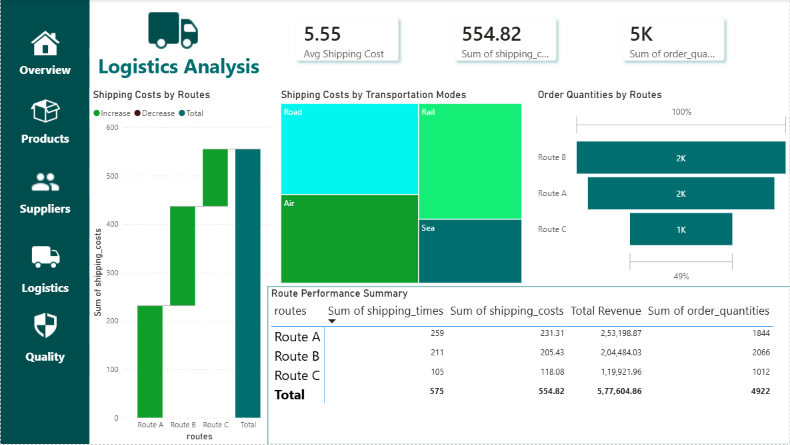

The page's visual inventory and layout, read from the dashboard file:
{"tool":"powerbi","page":{"name":"Page 4","canvas":[1280,720],"ordinal":3},"visuals":[{"type":"shape","box":[0,0,144,720],"z":0},{"type":"textbox","box":[0,96,144,48],"z":1000},{"type":"textbox","box":[0,208,144,64],"z":2000},{"type":"textbox","box":[0,320,144,64],"z":3000},{"type":"textbox","box":[0,448,144,64],"z":4000},{"type":"textbox","box":[0,560,144,48],"z":5000},{"type":"image","box":[32,48,80,48],"z":6000},{"type":"image","box":[48,128,48,96],"z":7000},{"type":"image","box":[48,240,48,112],"z":8000},{"type":"image","box":[48,384,48,64],"z":9000},{"type":"image","box":[48,496,48,64],"z":10000},{"type":"textbox","box":[144,80,288,96],"z":11000},{"type":"image","box":[208,0,144,80],"z":12000},{"type":"treemap","title":"Shipping Costs by Transportation Modes","fields":{"Group":["public supply_chain.transportation_modes"],"Values":["Sum(public supply_chain.shipping_costs)"]},"box":[448,144,400,320],"z":13000},{"type":"waterfallChart","title":"Shipping Costs by Routes","fields":{"Category":["public supply_chain.routes"],"Y":["Sum(public supply_chain.shipping_costs)"]},"box":[144,144,304,576],"z":14000},{"type":"pivotTable","title":"Route Performance Summary","fields":{"Rows":["public supply_chain.routes"],"Values":["Sum(public supply_chain.shipping_times)","Sum(public supply_chain.shipping_costs)","public supply_chain.Total Revenue","Sum(public supply_chain.order_quantities)"]},"box":[432,464,848,256],"z":15000},{"type":"funnel","title":"Order Quantities by Routes","fields":{"Category":["public supply_chain.routes"],"Y":["Sum(public supply_chain.order_quantities)"]},"box":[864,144,416,320],"z":16000},{"type":"cardVisual","fields":{"Data":["public supply_chain.Avg Shipping Cost"]},"box":[448,0,224,128],"z":17000},{"type":"cardVisual","fields":{"Data":["Sum(public supply_chain.shipping_costs)"]},"box":[704,0,224,128],"z":18000},{"type":"cardVisual","fields":{"Data":["Sum(public supply_chain.order_quantities)"]},"box":[976,0,224,128],"z":19000}]}

Visuals, with their boxes in screenshot pixels (x1, y1, x2, y2), scaled from the page's 1280x720 canvas onto the 790x445 screenshot:
shape: l=0, t=0, r=89, b=444
textbox: l=0, t=59, r=89, b=89
textbox: l=0, t=129, r=89, b=168
textbox: l=0, t=198, r=89, b=237
textbox: l=0, t=277, r=89, b=316
textbox: l=0, t=346, r=89, b=376
image: l=20, t=30, r=69, b=59
image: l=30, t=79, r=59, b=138
image: l=30, t=148, r=59, b=218
image: l=30, t=237, r=59, b=277
image: l=30, t=307, r=59, b=346
textbox: l=89, t=49, r=267, b=109
image: l=128, t=0, r=217, b=49
"Shipping Costs by Transportation Modes" treemap: l=276, t=89, r=523, b=287
"Shipping Costs by Routes" waterfallChart: l=89, t=89, r=276, b=444
"Route Performance Summary" pivotTable: l=267, t=287, r=789, b=444
"Order Quantities by Routes" funnel: l=533, t=89, r=789, b=287
cardVisual - public supply_chain.Avg Shipping Cost: l=276, t=0, r=415, b=79
cardVisual - Sum(public supply_chain.shipping_costs): l=434, t=0, r=573, b=79
cardVisual - Sum(public supply_chain.order_quantities): l=602, t=0, r=741, b=79
